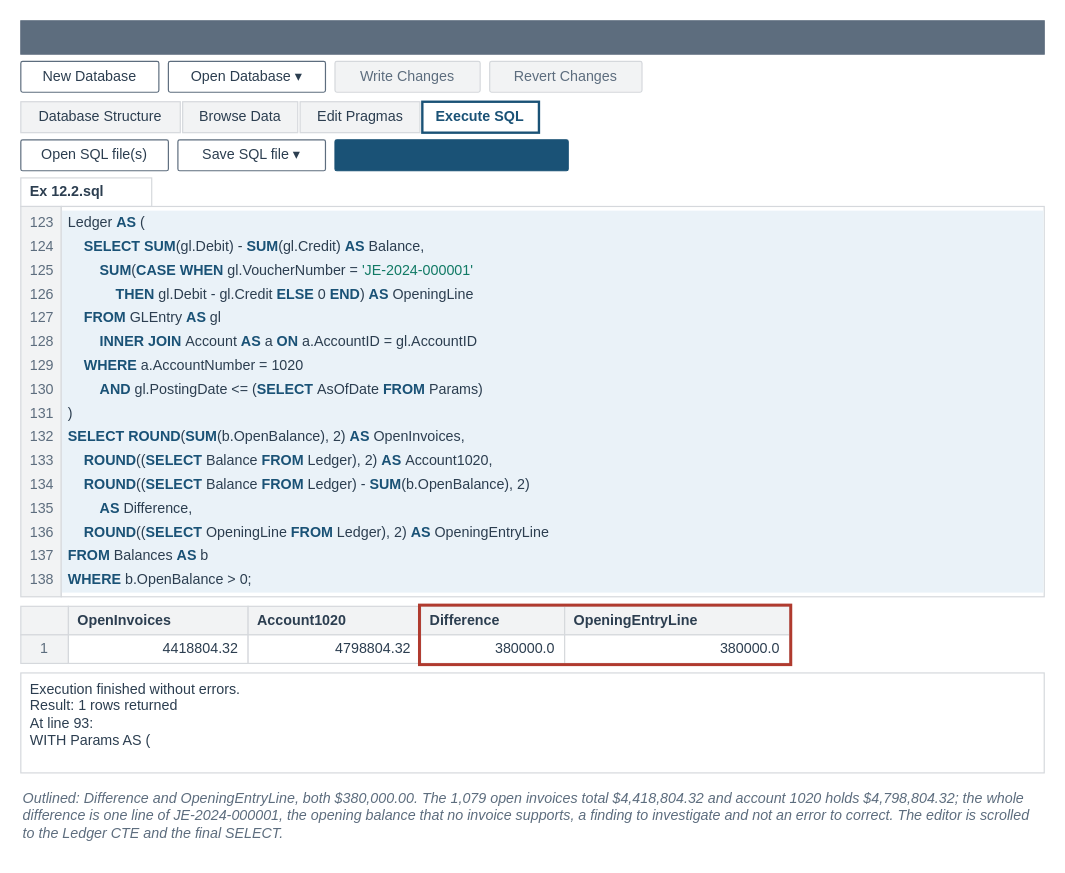
Some shapes in this 1065 by 873 pixel diagram are drawn without their labels. Each missing label, with the box of its shape:
DB Browser for SQLite - C:\Users\you\Documents\CharlesRiver_Work.sqlite: (20, 20, 1044, 54)
▶ Execute all/selected SQL: (334, 139, 568, 171)
